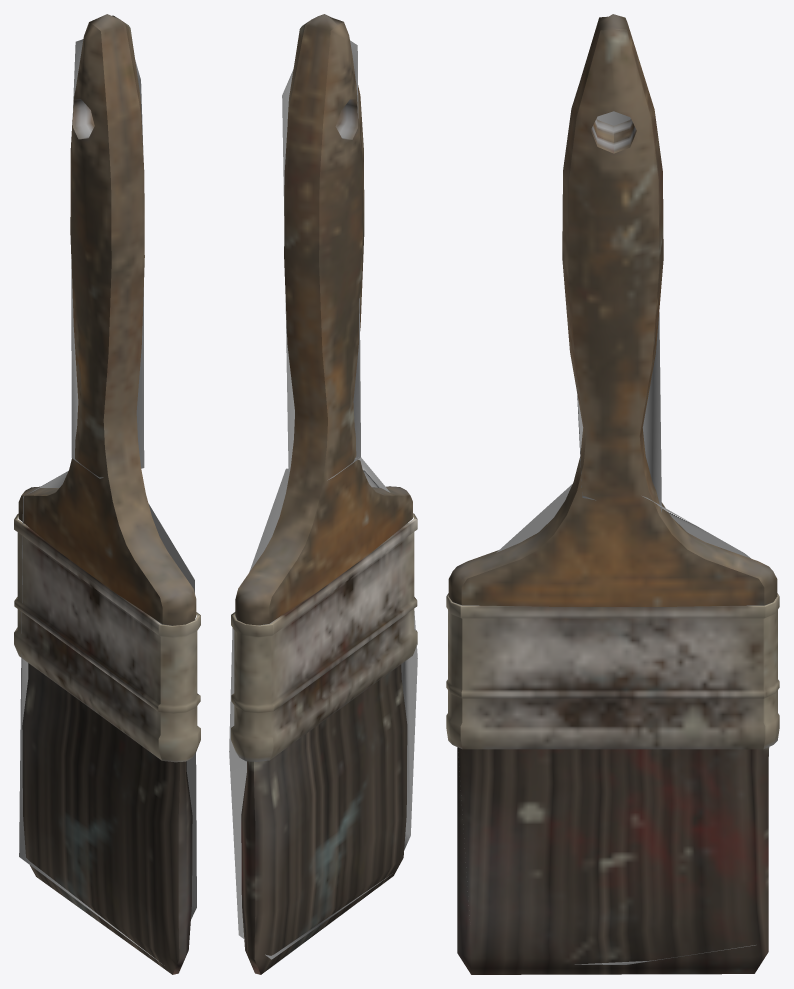
File: SM_Brush03.gltf
The picture shows the model from 3 angles, left to right: view 1: azimuth 30°, elevation 25°; view 2: azimuth 150°, elevation 25°; view 3: azimuth 270°, elevation 25°; orthographic projection. The views are drawn at different scales.
Parts seen in each view (by area): view 1: SM_Brush03_LOD0, SM_Brush03_ConvexHulls; view 2: SM_Brush03_LOD0, SM_Brush03_ConvexHulls; view 3: SM_Brush03_LOD0, SM_Brush03_ConvexHulls.
Part boxes in pixels (left/top/right/bottom): SM_Brush03_LOD0: left=14, top=14, right=200, bottom=974; SM_Brush03_ConvexHulls: left=19, top=39, right=196, bottom=963; SM_Brush03_LOD0: left=231, top=14, right=417, bottom=974; SM_Brush03_ConvexHulls: left=229, top=40, right=417, bottom=959; SM_Brush03_LOD0: left=446, top=14, right=779, bottom=974; SM_Brush03_ConvexHulls: left=448, top=111, right=774, bottom=964.
Size of what is drawn, in the model's own units: 0.0232 by 0.3345 by 0.1054.
